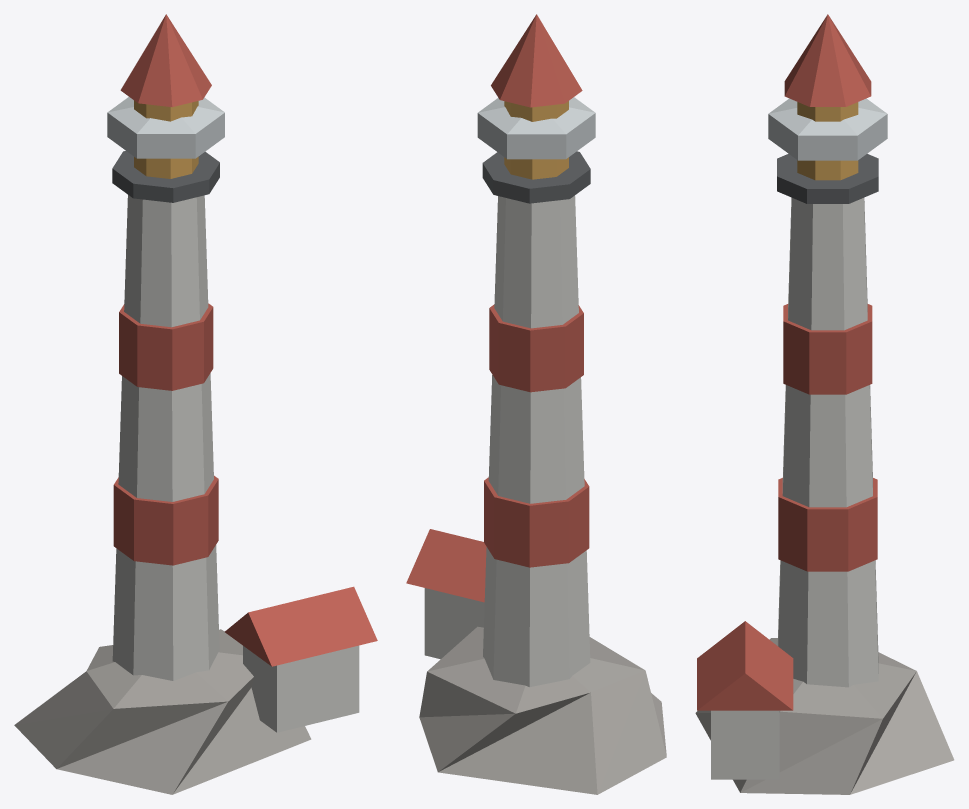
Rendered from lighthouse.glb.
3 renders of one model, left to right at view 1: azimuth 30°, elevation 25°; view 2: azimuth 150°, elevation 25°; view 3: azimuth 270°, elevation 25°, orthographic.
Visible parts, largest first — view 1: LOD0; view 2: LOD0; view 3: LOD0.
Boxes of the visible parts, x1,y1,x2,y2 form: LOD0: [14, 14, 377, 794]; LOD0: [406, 14, 666, 794]; LOD0: [695, 14, 954, 794].
Size of what is drawn, in the model's own units: 0.2268 by 0.5838 by 0.1882.
